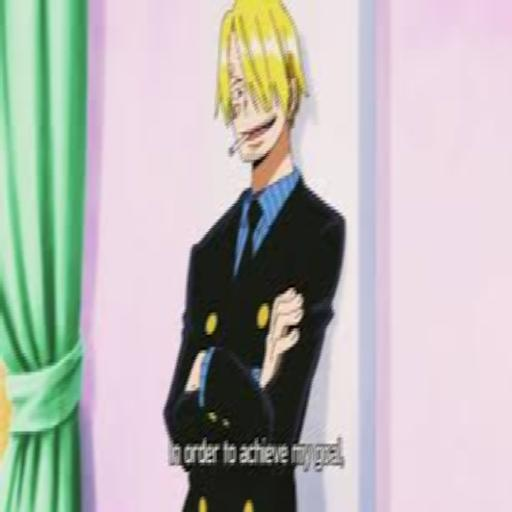sanji: (136, 6, 359, 512)
